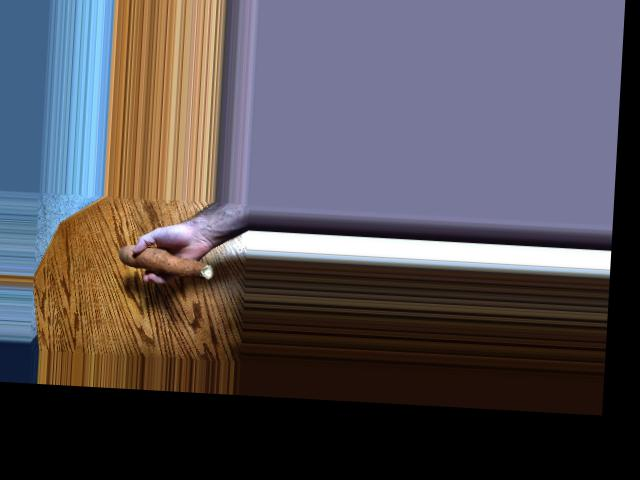sweet_potato: (120, 244, 212, 276)
